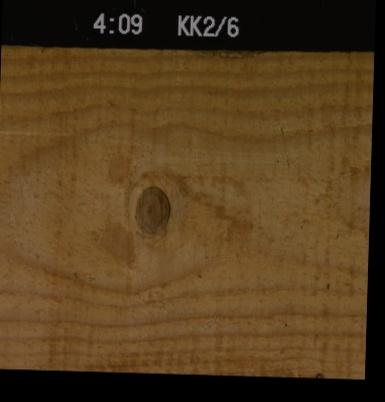dry_knot: (132, 183, 169, 235)
